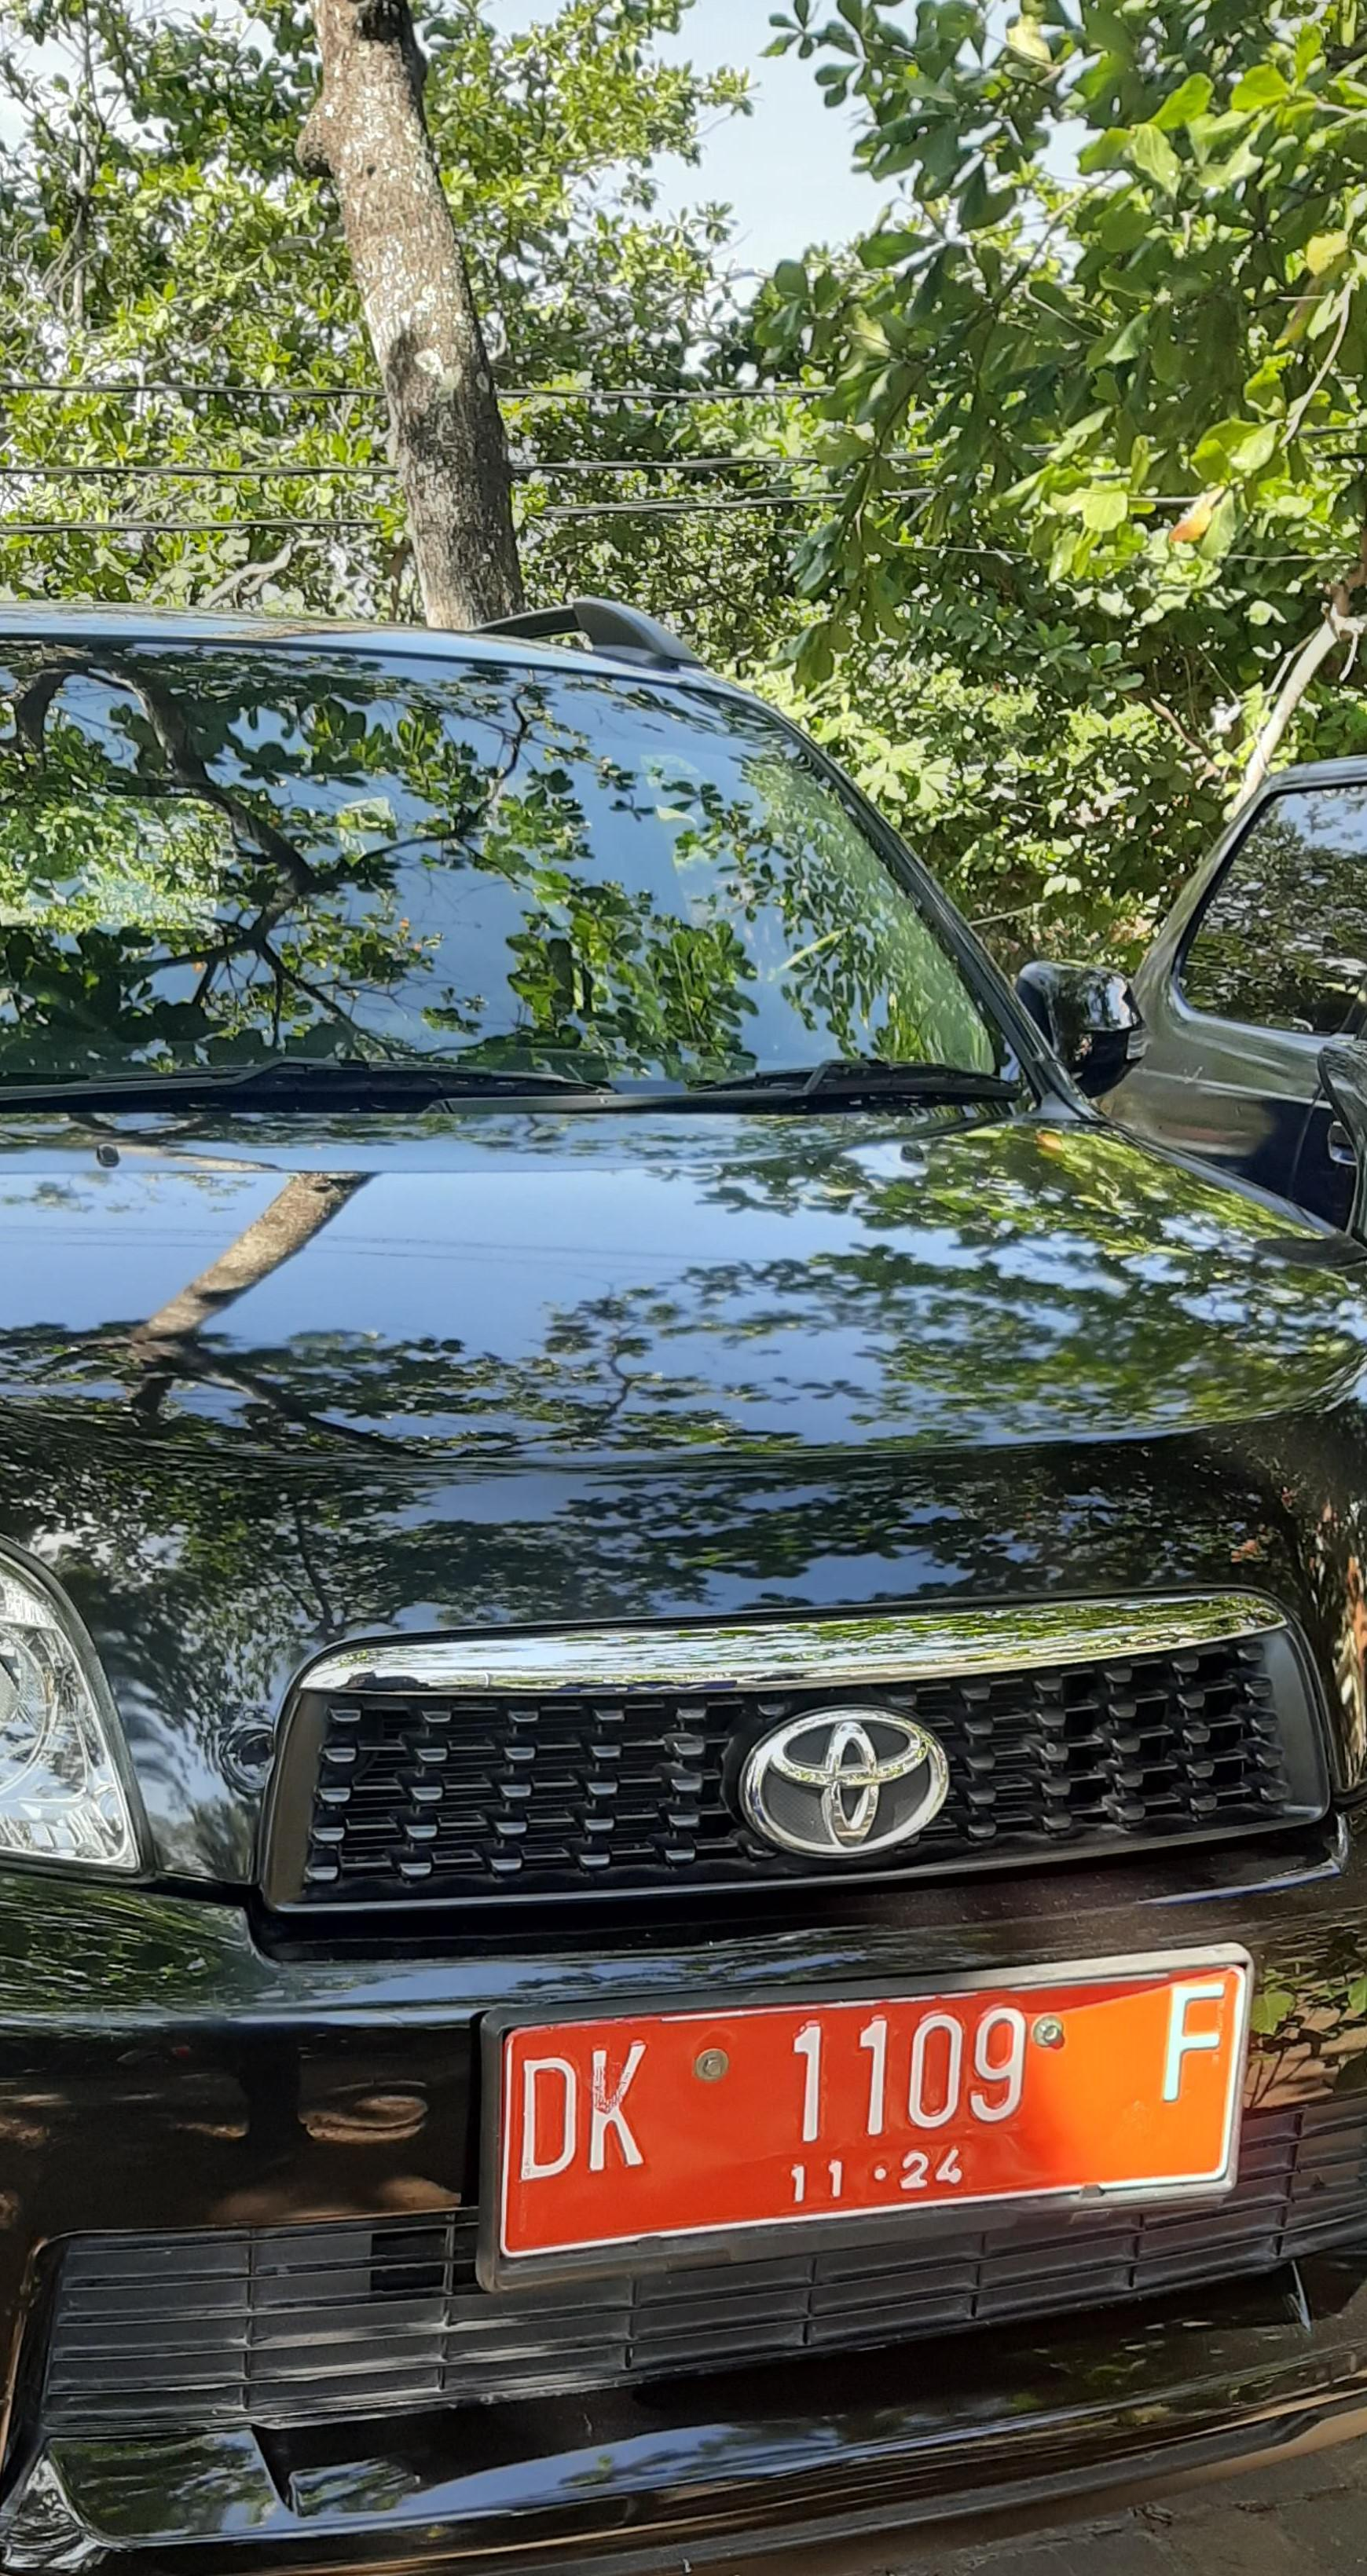plate: (502, 1962, 1246, 2256)
